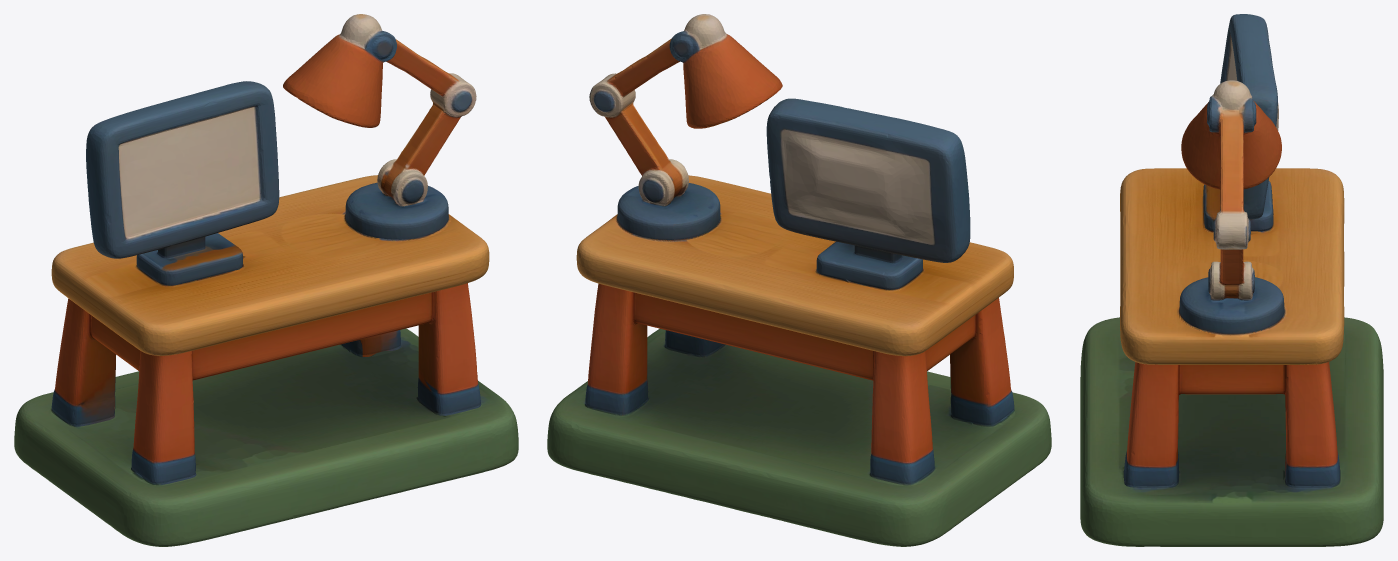
Rendered from startup-desk.glb.
The picture shows the model from 3 angles, left to right: view 1: azimuth 30°, elevation 25°; view 2: azimuth 150°, elevation 25°; view 3: azimuth 270°, elevation 25°; orthographic projection.
Visible parts, largest first — view 1: textured_mesh.obj; view 2: textured_mesh.obj; view 3: textured_mesh.obj.
Boxes of the visible parts, bbox=[...] form: textured_mesh.obj: bbox=[14, 14, 518, 546]; textured_mesh.obj: bbox=[547, 14, 1051, 546]; textured_mesh.obj: bbox=[1080, 14, 1383, 546].
Size of the model in its own units: 1.99 by 1.99 by 1.31.
1 material, 1 textured.
